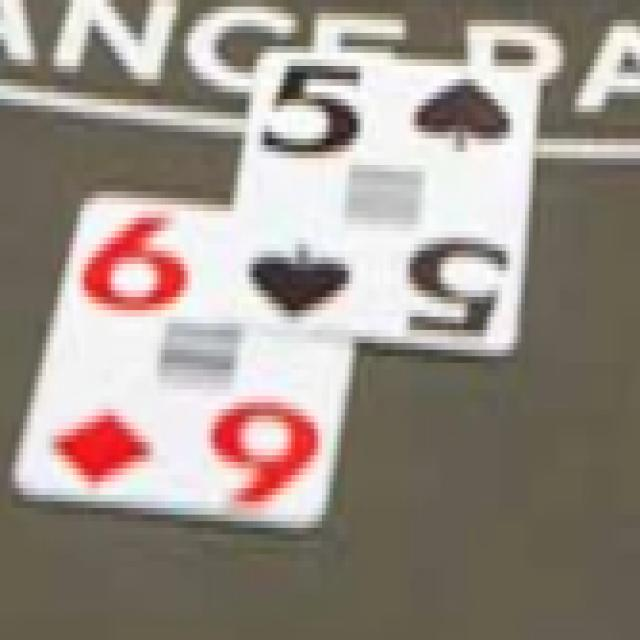Card-5: (217, 49, 539, 359)
Card-6: (14, 195, 354, 527)
